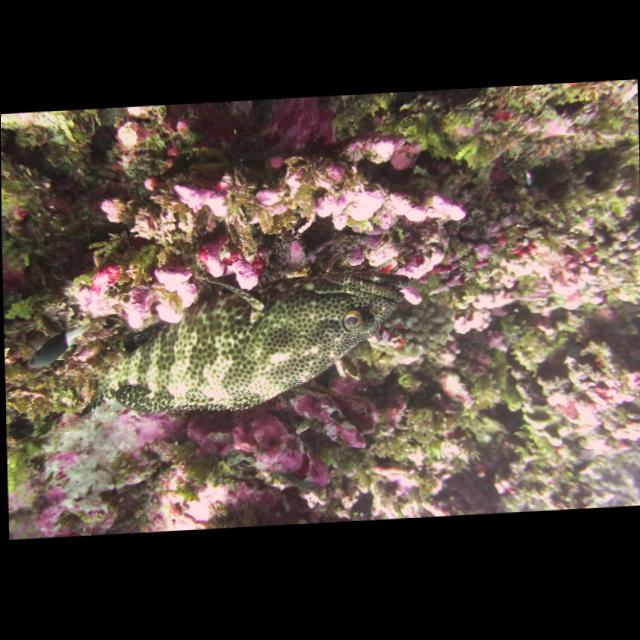Groupers: (71, 261, 413, 422)
